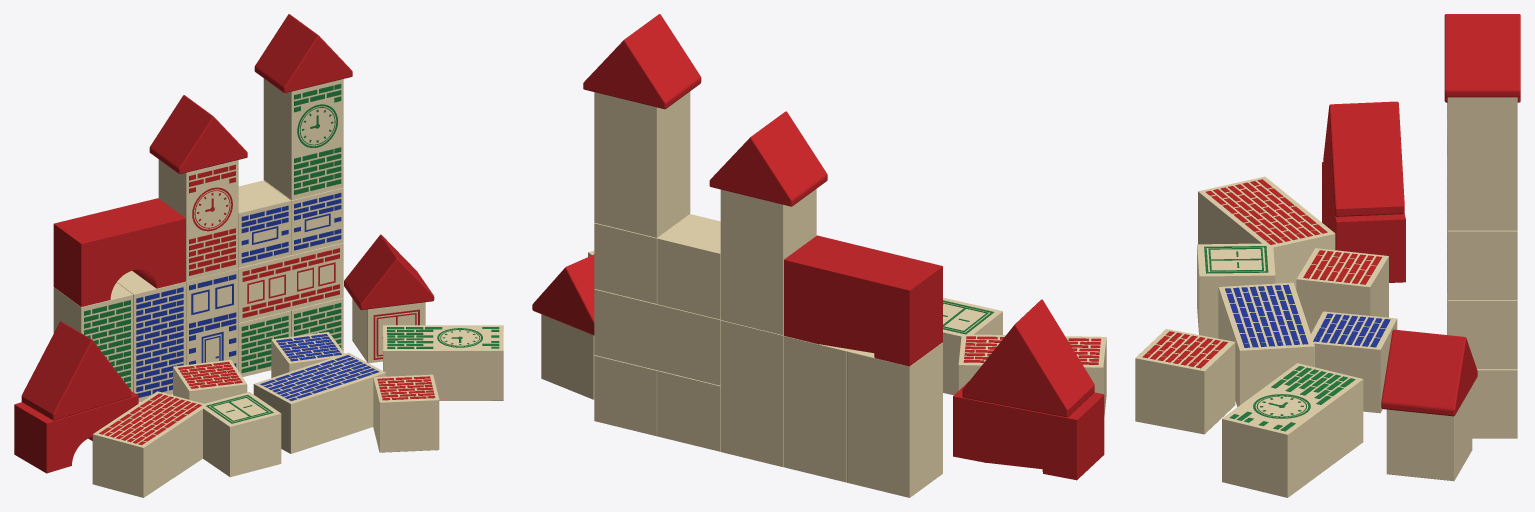
Rendered from bloquinhos brinquedo.fbx.
3 renders of one model, left to right at view 1: azimuth 30°, elevation 25°; view 2: azimuth 150°, elevation 25°; view 3: azimuth 270°, elevation 25°, orthographic. The views are drawn at different scales.
Visible parts, largest first — view 1: Bloco_Arco_Vermelho_Castelo, Bloco_Chao_Esq_Tijolos_Vermelhos_2x1, Bloco_Torre_Direita_Relogio_Verde, Bloco_Chao_Centro_Tijolos_Azuis_2x1, Bloco_Chao_Dir_Relogio_Verde_2x1, Bloco_Torre_Central_Relogio_Vermelho, Bloco_Frente_Esq_Telhado_Alto, Bloco_Parede_Col45_Janelas_Vermelhas, Bloco_Parede_Col2_Azul, Estampa_Chao_FrenteEsq_Janela_Verde, Bloco_Chao_FrenteDir_Cubo_Tijolos_Vermelhos, Bloco_Frente_Esq_Arco_Vermelho (+12 smaller); view 2: Bloco_Arco_Vermelho_Castelo, Bloco_Parede_Col1_Verde, Bloco_Torre_Direita_Relogio_Verde, Bloco_Torre_Central_Relogio_Vermelho, Bloco_Frente_Esq_Arco_Vermelho, Bloco_Frente_Esq_Telhado_Alto, Estampa_Col3_Porta_Azul, Bloco_Parede_Col45_Janelas_Vermelhas, Bloco_Parede_Col2_Azul, Telhado_Torre_Central_Vermelho, Telhado_Torre_Direita_Vermelho, Estampa_Col4_Topo_Azul (+7 smaller); view 3: Bloco_Chao_Dir_Relogio_Verde_2x1, Bloco_Torre_Direita_Relogio_Verde, Bloco_Chao_FrenteDir_Cubo_Tijolos_Vermelhos, Bloco_Frente_Esq_Telhado_Alto, Bloco_Chao_Esq_Tijolos_Vermelhos_2x1, Bloco_Chao_Centro_Tijolos_Azuis_2x1, Bloco_Casinha_Dir_Telhado, Telhado_Torre_Direita_Vermelho, Estampa_Chao_MeioEsq_Cubo_Vermelho, Bloco_Casinha_Dir_Janelas, Estampa_Chao_MeioDir_Cubo_Azul, Bloco_Parede_Col5_Topo_Azul (+4 smaller).
Part boxes in pixels (bbox=[...]): Bloco_Arco_Vermelho_Castelo: bbox=[53, 198, 185, 306]; Bloco_Chao_Esq_Tijolos_Vermelhos_2x1: bbox=[92, 391, 207, 497]; Bloco_Torre_Direita_Relogio_Verde: bbox=[263, 78, 343, 199]; Bloco_Chao_Centro_Tijolos_Azuis_2x1: bbox=[253, 352, 385, 453]; Bloco_Chao_Dir_Relogio_Verde_2x1: bbox=[383, 325, 503, 400]; Bloco_Torre_Central_Relogio_Vermelho: bbox=[158, 159, 238, 280]; Bloco_Frente_Esq_Telhado_Alto: bbox=[21, 321, 131, 420]; Bloco_Parede_Col45_Janelas_Vermelhas: bbox=[238, 242, 343, 322]; Bloco_Parede_Col2_Azul: bbox=[117, 271, 185, 402]; Estampa_Chao_FrenteEsq_Janela_Verde: bbox=[200, 392, 281, 477]; Bloco_Chao_FrenteDir_Cubo_Tijolos_Vermelhos: bbox=[373, 374, 439, 452]; Bloco_Frente_Esq_Arco_Vermelho: bbox=[14, 391, 138, 473]; Bloco_Arco_Vermelho_Castelo: bbox=[784, 235, 942, 366]; Bloco_Parede_Col1_Verde: bbox=[847, 342, 942, 497]; Bloco_Torre_Direita_Relogio_Verde: bbox=[594, 91, 690, 237]; Bloco_Torre_Central_Relogio_Vermelho: bbox=[720, 189, 816, 335]; Bloco_Frente_Esq_Arco_Vermelho: bbox=[953, 381, 1104, 480]; Bloco_Frente_Esq_Telhado_Alto: bbox=[962, 299, 1094, 417]; Estampa_Col3_Porta_Azul: bbox=[720, 320, 783, 467]; Bloco_Parede_Col45_Janelas_Vermelhas: bbox=[594, 289, 720, 385]; Bloco_Parede_Col2_Azul: bbox=[784, 336, 849, 482]; Telhado_Torre_Central_Vermelho: bbox=[709, 111, 827, 206]; Telhado_Torre_Direita_Vermelho: bbox=[583, 14, 701, 109]; Estampa_Col4_Topo_Azul: bbox=[657, 214, 720, 319]; Bloco_Chao_Dir_Relogio_Verde_2x1: bbox=[1222, 363, 1363, 497]; Bloco_Torre_Direita_Relogio_Verde: bbox=[1447, 97, 1517, 230]; Bloco_Chao_FrenteDir_Cubo_Tijolos_Vermelhos: bbox=[1135, 329, 1235, 434]; Bloco_Frente_Esq_Telhado_Alto: bbox=[1323, 101, 1404, 216]; Bloco_Chao_Esq_Tijolos_Vermelhos_2x1: bbox=[1198, 176, 1335, 289]; Bloco_Chao_Centro_Tijolos_Azuis_2x1: bbox=[1218, 282, 1314, 406]; Bloco_Casinha_Dir_Telhado: bbox=[1381, 329, 1477, 416]; Telhado_Torre_Direita_Vermelho: bbox=[1444, 14, 1520, 97]; Estampa_Chao_MeioEsq_Cubo_Vermelho: bbox=[1296, 248, 1388, 333]; Bloco_Casinha_Dir_Janelas: bbox=[1386, 386, 1472, 481]; Estampa_Chao_MeioDir_Cubo_Azul: bbox=[1311, 311, 1397, 413]; Bloco_Parede_Col5_Topo_Azul: bbox=[1447, 223, 1517, 299].
Size of the model in its own units: 4.29 by 2.96 by 2.53.
